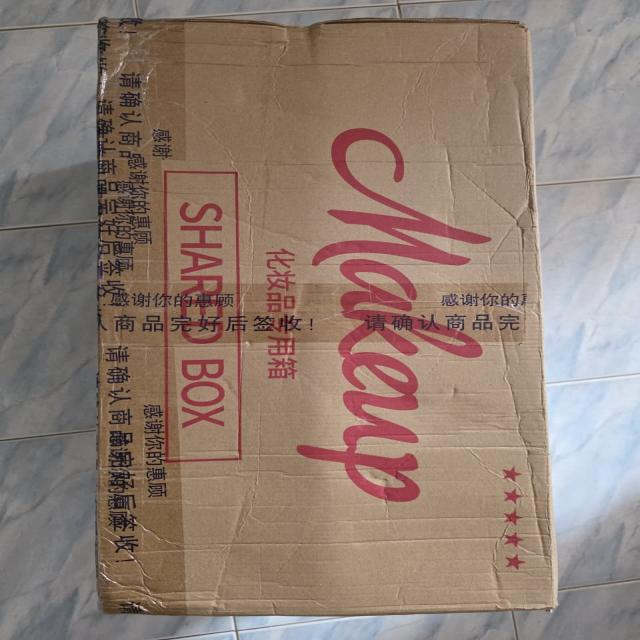carton_box: (76, 5, 578, 635)
